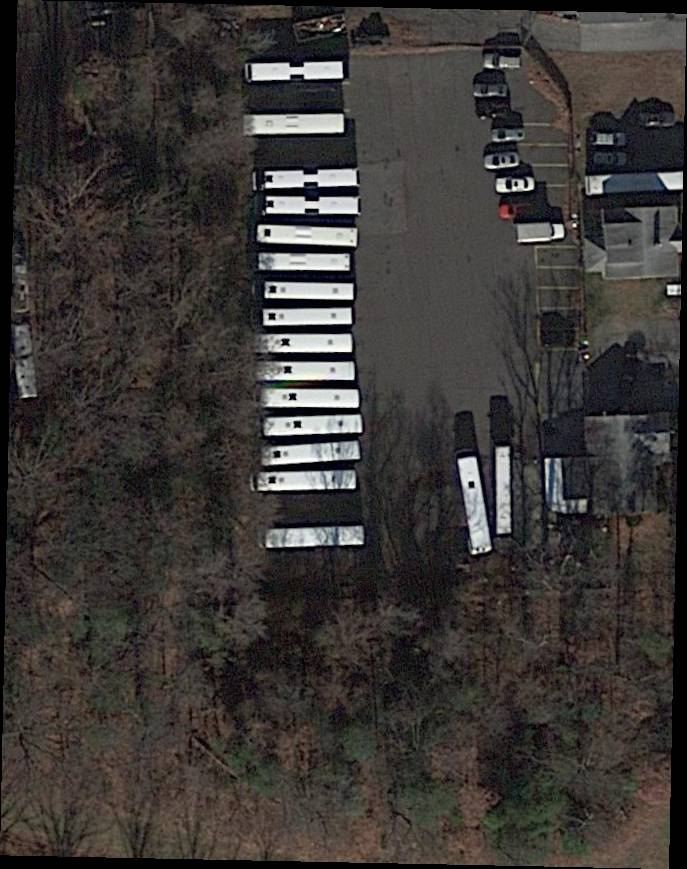large vehicle: (457, 456, 492, 556), (258, 526, 367, 551), (253, 167, 361, 192), (261, 440, 361, 467), (258, 224, 359, 249), (244, 113, 346, 137), (262, 414, 363, 438), (249, 471, 358, 493), (246, 62, 345, 83), (264, 196, 362, 217), (255, 389, 360, 408), (259, 253, 351, 273), (263, 307, 354, 327), (265, 281, 355, 301), (511, 223, 566, 246)
small vehicle: (496, 200, 540, 222), (491, 174, 541, 193), (482, 50, 524, 72), (583, 129, 628, 149), (585, 150, 630, 169), (472, 80, 511, 100), (481, 151, 521, 169), (477, 103, 513, 122), (488, 128, 529, 144), (637, 111, 674, 127)
